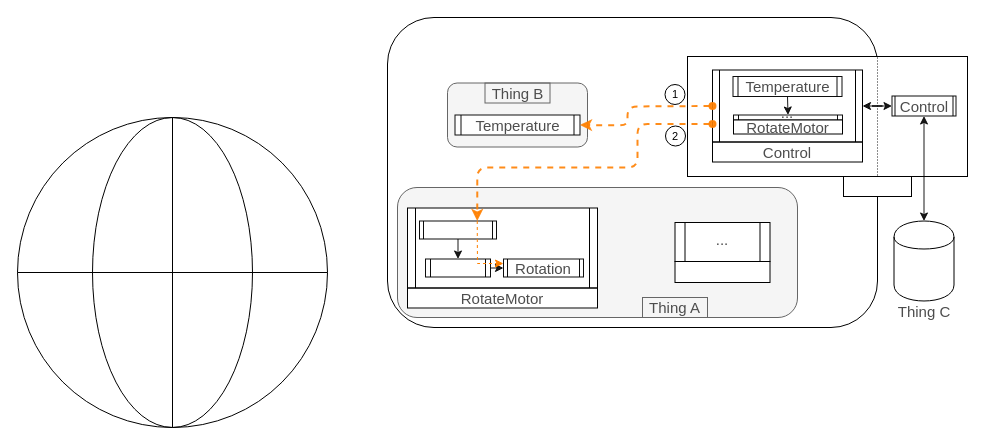
The diagram is 985 pixels wide and 446 high, and some of its shapes have lost their labels. Here are the shapes that lost their labels. From the top down, the box of each, then its label:
(842, 176, 912, 196): Gateway
(418, 220, 496, 239): Initialize
(424, 258, 490, 277): Rotate
(674, 260, 770, 282): SafeStop
